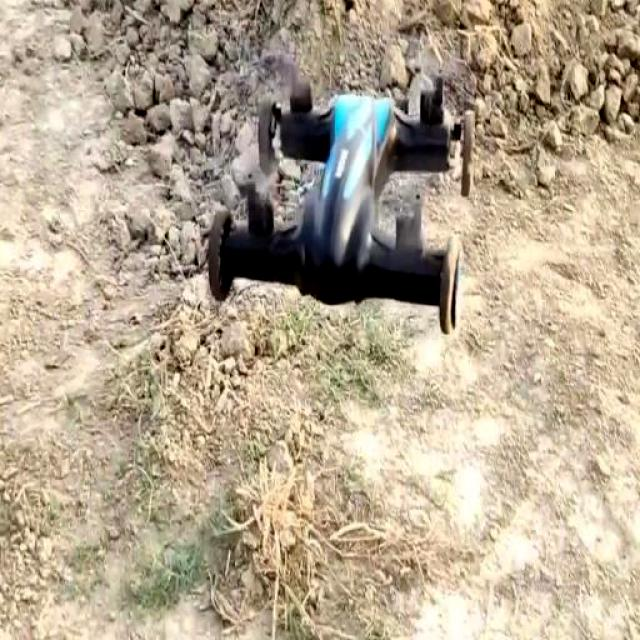bird: (201, 69, 479, 345)
